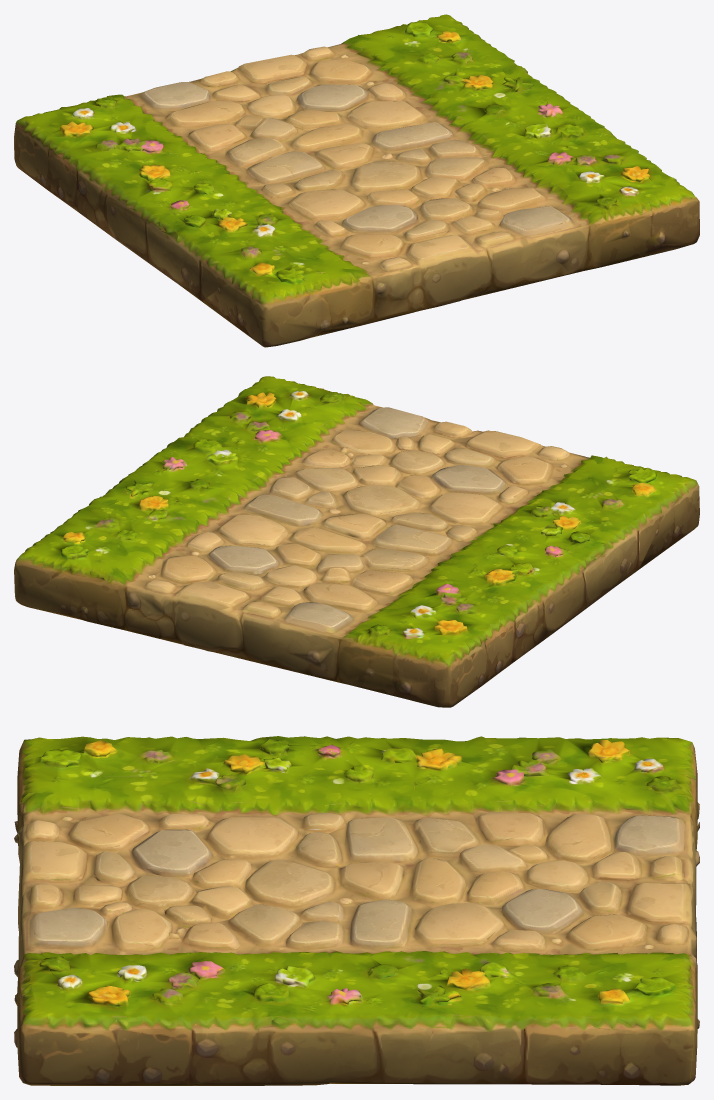
The model's file is path-straight.glb.
The picture shows the model from 3 angles, top to bottom: view 1: azimuth 30°, elevation 25°; view 2: azimuth 150°, elevation 25°; view 3: azimuth 270°, elevation 25°; orthographic projection. The views are drawn at different scales.
Parts seen in each view (by area): view 1: Mesh1.0; view 2: Mesh1.0; view 3: Mesh1.0.
Boxes of the visible parts, x1=… form: Mesh1.0: x1=14, y1=14, x2=699, y2=347; Mesh1.0: x1=14, y1=376, x2=699, y2=707; Mesh1.0: x1=14, y1=736, x2=699, y2=1085.
Bounding box in the file's own units: 1.88 × 0.2373 × 1.9.
1 material, 1 textured.
